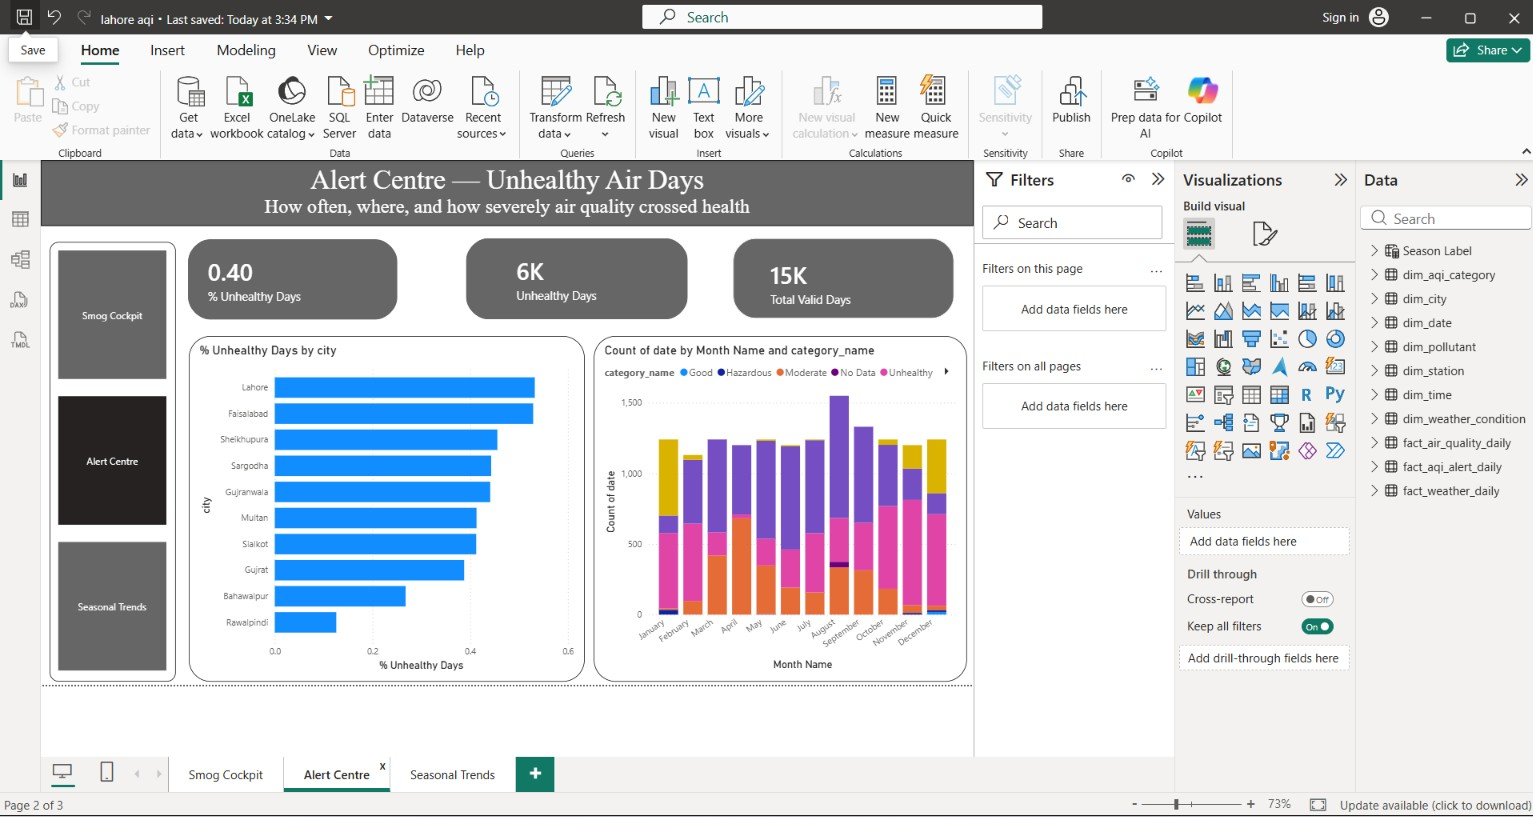

The dashboard page shown, as its layout file describes it:
{"tool":"powerbi","page":{"name":"Alert Centre","canvas":[1280,720],"ordinal":1},"visuals":[{"type":"pageNavigator","box":[12.2,112.5,172.4,602.9],"z":0},{"type":"cardVisual","fields":{"Data":["_Measures.% Unhealthy Days"]},"box":[184.6,91.7,321.6,144.3],"z":1000},{"type":"cardVisual","fields":{"Data":["_Measures.Unhealthy Days"]},"box":[567.4,90.5,338.7,145.5],"z":2000},{"type":"cardVisual","fields":{"Data":["_Measures.Total Valid Days"]},"box":[933,90.5,337.5,144.3],"z":3000},{"type":"clusteredBarChart","fields":{"Category":["dim_city.city"],"Y":["_Measures.% Unhealthy Days"]},"box":[203,240.9,542.9,474.5],"z":4000},{"type":"columnChart","fields":{"Category":["dim_date.Month Name"],"Series":["dim_aqi_category.category_name"],"Y":["CountNonNull(fact_air_quality_daily.date)"]},"box":[758.2,240.9,512.4,474.5],"z":5000},{"type":"textbox","box":[0,0,1280.3,90.5],"z":6000}]}

Visuals, with their boxes on the page's 1280x720 design canvas (x1, y1, x2, y2). These are canvas units, not pixel positions in the 1533x817 screenshot, which may show the page scaled, cropped or inside an application window:
pageNavigator: 12,112,185,715
cardVisual - _Measures.% Unhealthy Days: 185,92,506,236
cardVisual - _Measures.Unhealthy Days: 567,90,906,236
cardVisual - _Measures.Total Valid Days: 933,90,1270,235
clusteredBarChart - dim_city.city x _Measures.% Unhealthy Days: 203,241,746,715
columnChart - dim_date.Month Name x dim_aqi_category.category_name: 758,241,1271,715
textbox: 0,0,1280,90
